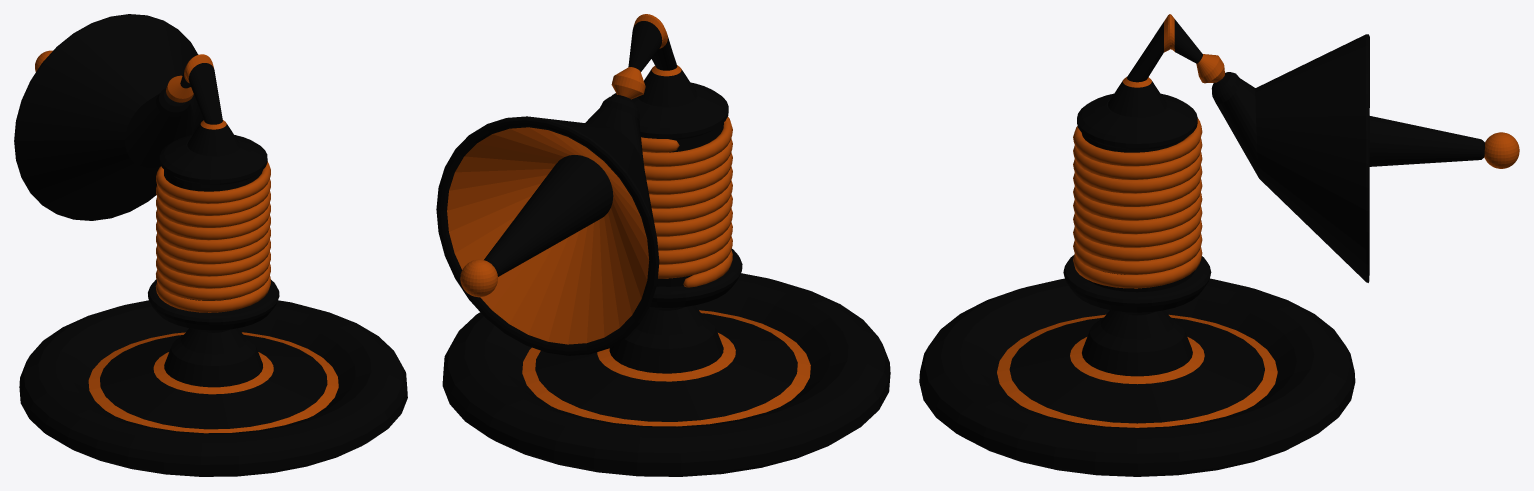
Rendered from TurretT1.fbx.
3 renders of one model, left to right at view 1: azimuth 30°, elevation 25°; view 2: azimuth 150°, elevation 25°; view 3: azimuth 270°, elevation 25°, orthographic. The views are drawn at different scales.
Visible parts, largest first — view 1: Turret-T1; view 2: Turret-T1; view 3: Turret-T1.
Boxes of the visible parts, x1=… form: Turret-T1: x1=14, y1=14, x2=407, y2=476; Turret-T1: x1=436, y1=14, x2=890, y2=476; Turret-T1: x1=919, y1=14, x2=1519, y2=476.
Bounding box in the file's own units: 296 × 290 × 407.
